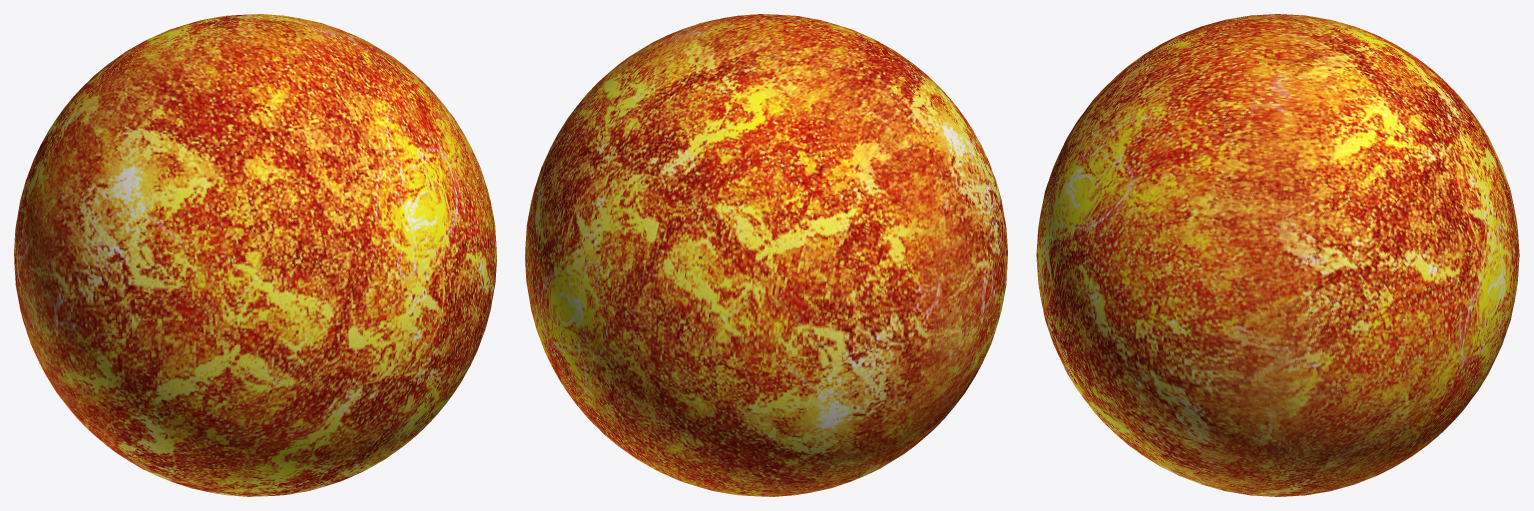
File: sun.glb
3 views of the same model, side by side, from view 1: azimuth 30°, elevation 25°; view 2: azimuth 150°, elevation 25°; view 3: azimuth 270°, elevation 25° (orthographic).
Parts seen in each view (by area): view 1: Object_5; view 2: Object_5; view 3: Object_5.
Boxes of the visible parts, x1,y1,x2,y2 form: Object_5: [14, 14, 496, 496]; Object_5: [525, 14, 1007, 496]; Object_5: [1036, 14, 1519, 496].
Bounding box in the file's own units: 0.3638 × 0.3638 × 0.3639.
Materials: 1 (1 with a texture image).
